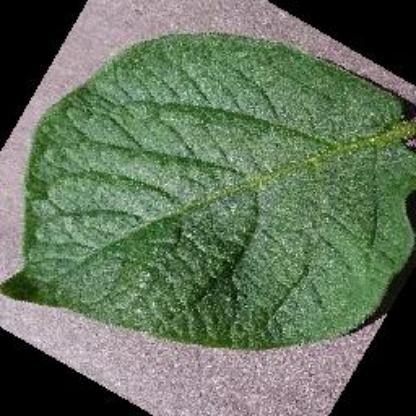Healthy-plant: (3, 27, 413, 354)
